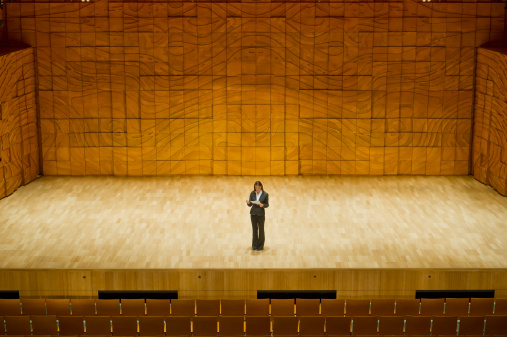em pe: (246, 177, 271, 251)
